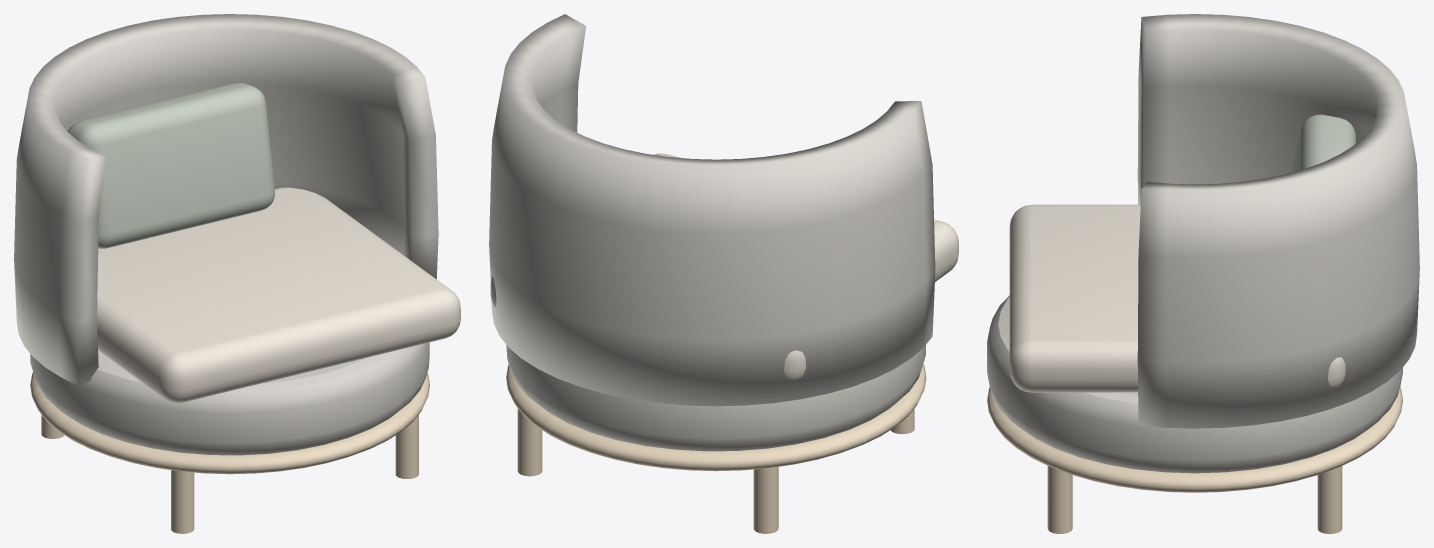
The model's file is mo_armchair.glb.
3 views of the same model, side by side, from view 1: azimuth 30°, elevation 25°; view 2: azimuth 150°, elevation 25°; view 3: azimuth 270°, elevation 25° (orthographic). The views are drawn at different scales.
Parts seen in each view (by area): view 1: back, cushion, seatbase, lumbar, ring, leg, leg.002; view 2: back, seatbase, ring, cushion, leg.001, leg.003; view 3: back, cushion, seatbase, ring, lumbar, leg.002, leg.003.
Part boxes in pixels (x1,y1,x2,y2): back: [14, 14, 438, 385]; cushion: [97, 187, 460, 403]; seatbase: [30, 342, 429, 455]; lumbar: [67, 82, 274, 248]; ring: [30, 372, 429, 474]; leg: [171, 470, 194, 533]; leg.002: [395, 414, 418, 478]; back: [489, 14, 935, 406]; seatbase: [506, 345, 925, 451]; ring: [506, 364, 926, 471]; cushion: [490, 153, 958, 380]; leg.001: [753, 467, 778, 533]; leg.003: [517, 408, 542, 476]; back: [1137, 14, 1419, 428]; cushion: [1009, 204, 1345, 392]; seatbase: [987, 295, 1402, 473]; ring: [987, 387, 1402, 492]; lumbar: [1291, 114, 1355, 172]; leg.002: [1047, 466, 1072, 533]; leg.003: [1317, 466, 1342, 533].
Bounding box in the file's own units: 0.8 × 0.7241 × 0.77.
